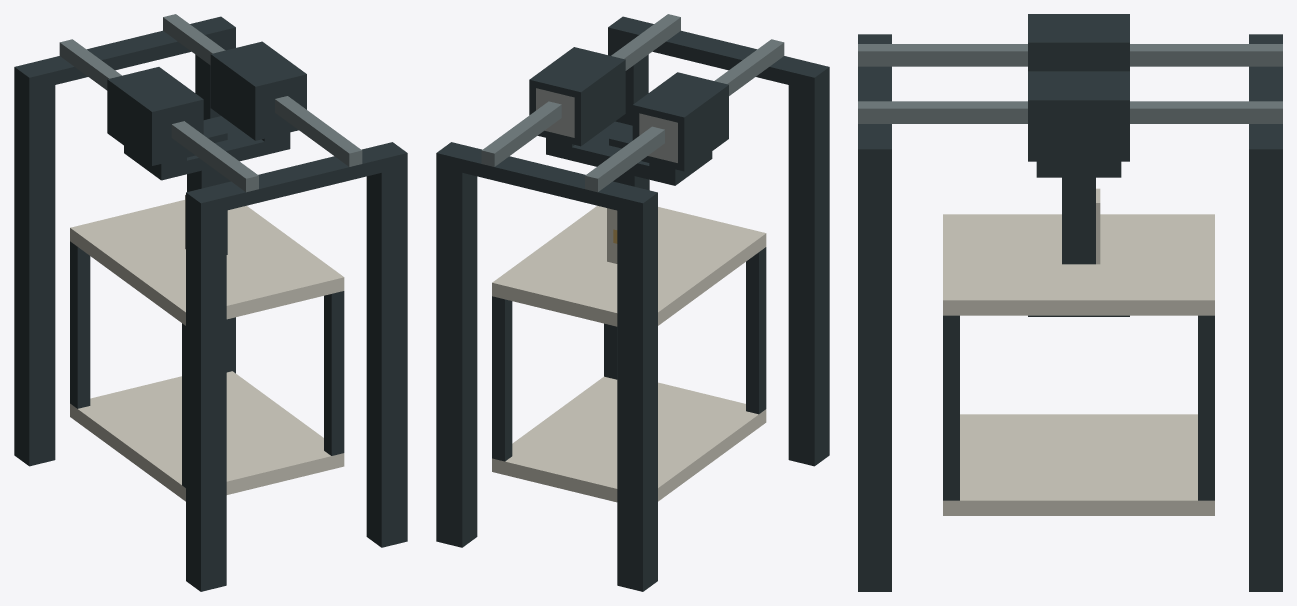
3 views of the same model, side by side, from view 1: azimuth 30°, elevation 25°; view 2: azimuth 150°, elevation 25°; view 3: azimuth 270°, elevation 25° (orthographic). The views are drawn at different scales.
Parts seen in each view (by area): view 1: 两条实际钢索与外侧承塔（辅助）, 顶板由吊架底托实承的开敞轿厢试架（辅助）, 缆车吊架与承索夹组件; view 2: 两条实际钢索与外侧承塔（辅助）, 顶板由吊架底托实承的开敞轿厢试架（辅助）, 缆车吊架与承索夹组件; view 3: 顶板由吊架底托实承的开敞轿厢试架（辅助）, 两条实际钢索与外侧承塔（辅助）, 缆车吊架与承索夹组件.
Boxes of the visible parts, x1,y1,x2,y2 form: 两条实际钢索与外侧承塔（辅助）: (14, 14, 407, 591); 顶板由吊架底托实承的开敞轿厢试架（辅助）: (70, 200, 344, 501); 缆车吊架与承索夹组件: (107, 41, 306, 254); 两条实际钢索与外侧承塔（辅助）: (436, 14, 829, 591); 顶板由吊架底托实承的开敞轿厢试架（辅助）: (492, 206, 766, 502); 缆车吊架与承索夹组件: (529, 47, 728, 263); 顶板由吊架底托实承的开敞轿厢试架（辅助）: (943, 214, 1214, 515); 两条实际钢索与外侧承塔（辅助）: (858, 34, 1282, 591); 缆车吊架与承索夹组件: (1028, 14, 1129, 316).
Bounding box in the file's own units: 3.2 × 6.2 × 5.
6 materials, 6 textured.
